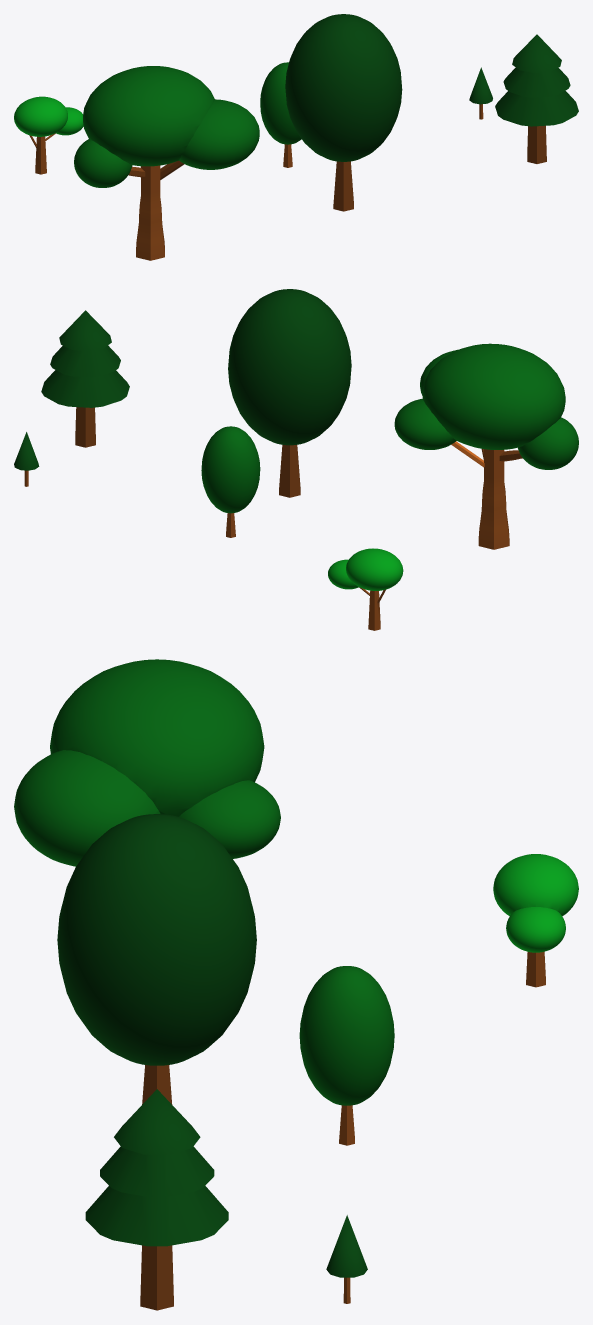
The model's file is Flora.fbx.
The picture shows the model from 3 angles, top to bottom: view 1: azimuth 30°, elevation 25°; view 2: azimuth 150°, elevation 25°; view 3: azimuth 270°, elevation 25°; orthographic projection. The views are drawn at different scales.
Visible parts, largest first — view 1: Leaves.001, Leaves.003, Leaves.004, Stem, Leaves, Leaves.002, Steam.001, Leaves.005, Leaves.006, Steam; view 2: Leaves.001, Leaves.003, Leaves.004, Leaves.002, Stem, Leaves, Steam.001, Leaves.005, Leaves.006, Steam; view 3: Leaves.003, Leaves.001, Leaves.004, Leaves.002, Leaves, Leaves.005, Leaves.006, Steam.001.
Boxes of the visible parts, box(x1,y1,x2,y2) form: Leaves.001: box(74, 66, 259, 187); Leaves.003: box(285, 14, 402, 161); Leaves.004: box(495, 34, 578, 126); Stem: box(128, 160, 184, 260); Leaves: box(14, 96, 83, 136); Leaves.002: box(260, 62, 301, 144); Steam.001: box(333, 161, 353, 211); Leaves.005: box(527, 125, 546, 163); Leaves.006: box(469, 67, 492, 104); Steam: box(29, 133, 55, 174); Leaves.001: box(394, 343, 578, 469); Leaves.003: box(228, 289, 351, 445); Leaves.004: box(41, 310, 129, 407); Leaves.002: box(201, 426, 260, 513); Stem: box(451, 441, 522, 549); Leaves: box(328, 548, 403, 590); Steam.001: box(279, 445, 300, 497); Leaves.005: box(75, 407, 95, 447); Leaves.006: box(14, 432, 39, 470); Steam: box(359, 587, 386, 630); Leaves.003: box(57, 814, 256, 1065); Leaves.001: box(14, 659, 280, 866); Leaves.004: box(85, 1089, 228, 1246); Leaves.002: box(299, 966, 394, 1105); Leaves: box(493, 854, 578, 952); Leaves.005: box(140, 1245, 173, 1310); Leaves.006: box(326, 1215, 367, 1277); Steam.001: box(142, 1065, 172, 1104).
Bounding box in the file's own units: 515 × 186 × 297.
